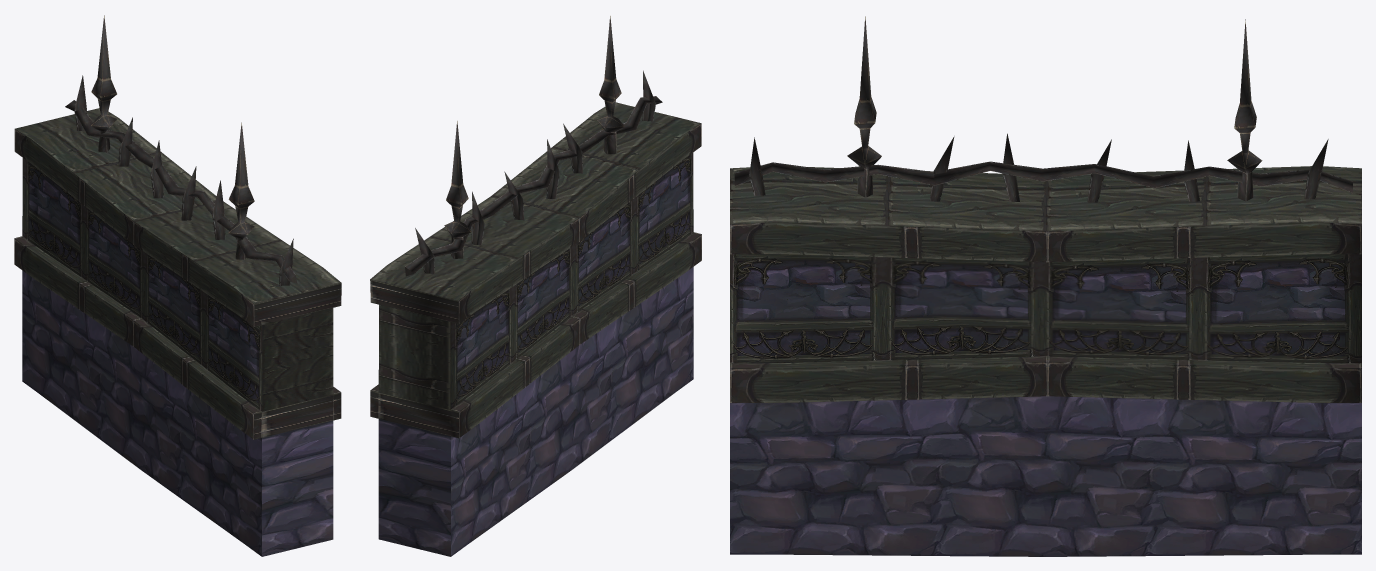
File: nd_forsaken_wall_small_wide.obj
The picture shows the model from 3 angles, left to right: view 1: azimuth 30°, elevation 25°; view 2: azimuth 150°, elevation 25°; view 3: azimuth 270°, elevation 25°; orthographic projection. The views are drawn at different scales.
Visible parts, largest first — view 1: wall_small; view 2: wall_small; view 3: wall_small.
Part boxes in pixels (x1,y1,x2,y2): wall_small: (14, 15, 341, 556); wall_small: (370, 16, 701, 556); wall_small: (730, 16, 1361, 556).
Bounding box in the file's own units: 4.43 × 18.93 × 20.97.
Materials: 6 (6 with a texture image).
